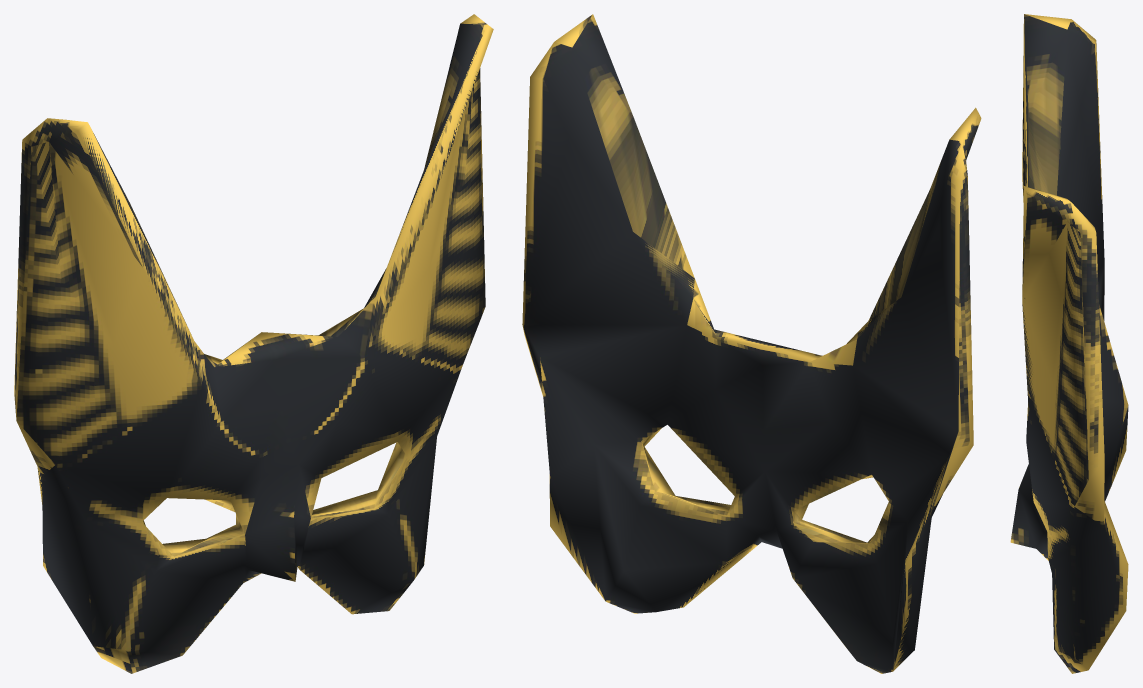
The model's file is MascaraGatoTienda.fbx.
The picture shows the model from 3 angles, left to right: view 1: azimuth 30°, elevation 25°; view 2: azimuth 150°, elevation 25°; view 3: azimuth 270°, elevation 25°; orthographic projection. The views are drawn at different scales.
Visible parts, largest first — view 1: egypetien mask; view 2: egypetien mask; view 3: egypetien mask.
Part boxes in pixels (<box>): egypetien mask: <box>14,14,493,673</box>; egypetien mask: <box>522,14,981,673</box>; egypetien mask: <box>1010,14,1128,673</box>.
Bounding box in the file's own units: 14209 × 17045 × 3515.
